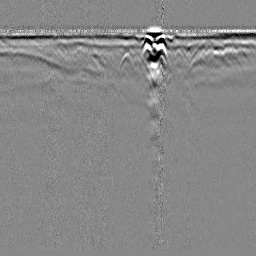cavity: (117, 51, 134, 71)
